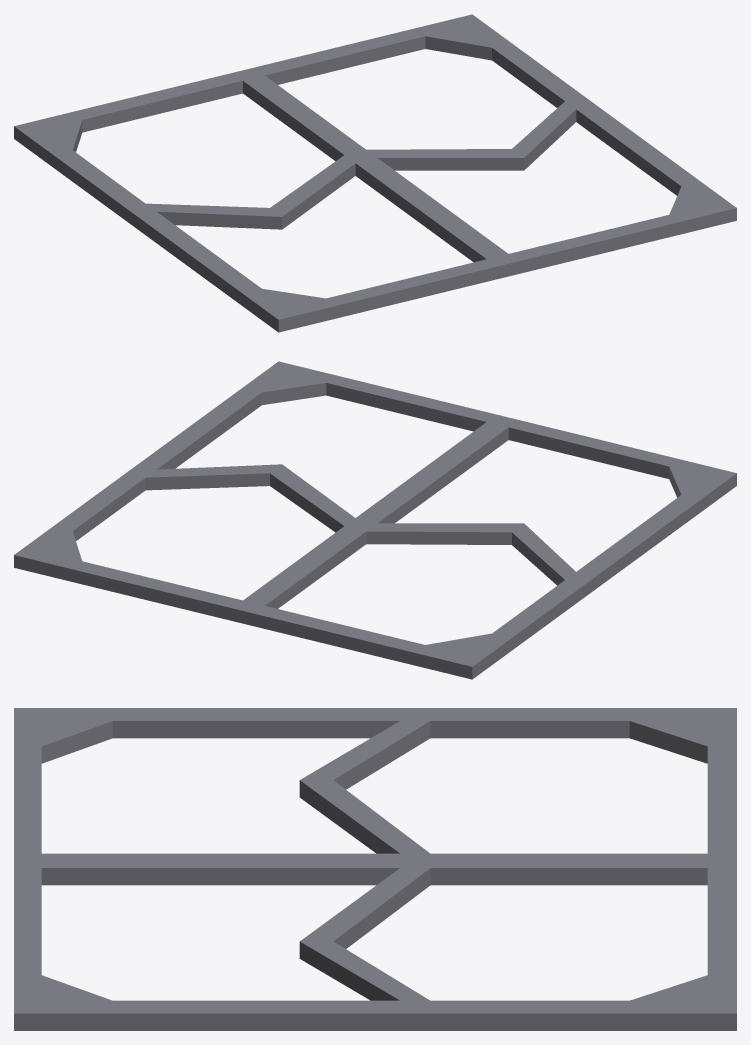
The model's file is Floor_Glass.fbx.
3 renders of one model, top to bottom at view 1: azimuth 30°, elevation 25°; view 2: azimuth 150°, elevation 25°; view 3: azimuth 270°, elevation 25°, orthographic. The views are drawn at different scales.
Visible parts, largest first — view 1: Floor_Glass; view 2: Floor_Glass; view 3: Floor_Glass.
Boxes of the visible parts, box(x1,y1,x2,y2) form: Floor_Glass: box(14, 14, 736, 332); Floor_Glass: box(14, 361, 736, 679); Floor_Glass: box(14, 708, 736, 1030).
Size of the model in its own units: 700 by 18.59 by 700.
